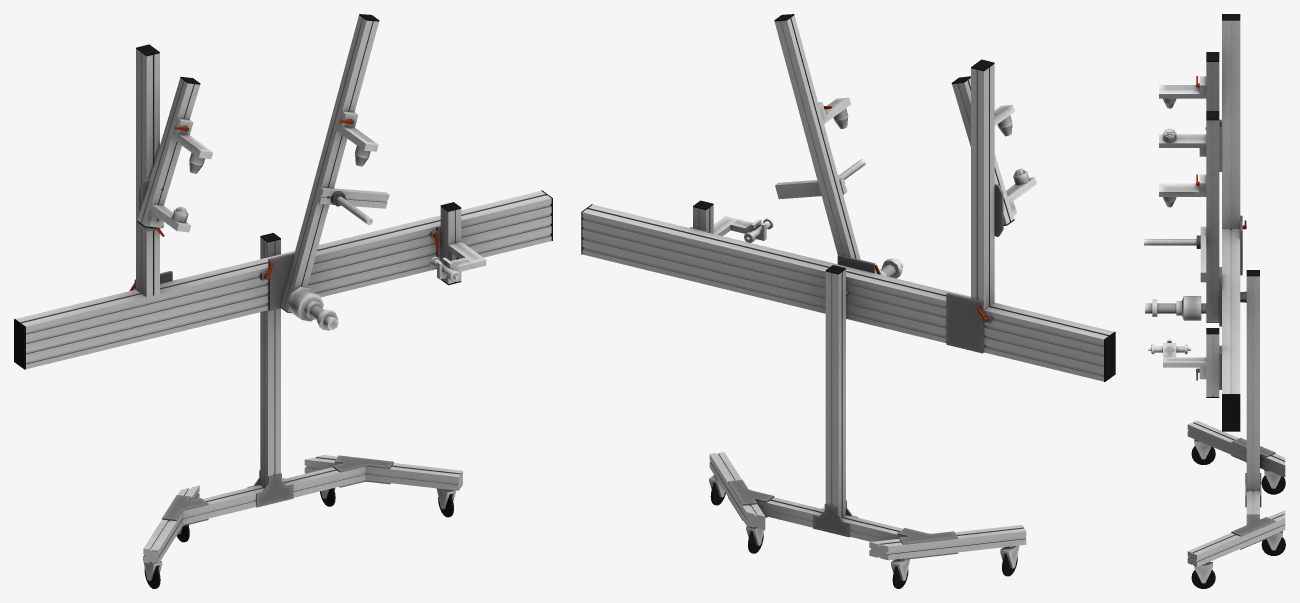
File: Caballo para soldadura cuadro.FBX
The picture shows the model from 3 angles, left to right: view 1: azimuth 30°, elevation 25°; view 2: azimuth 150°, elevation 25°; view 3: azimuth 270°, elevation 25°; orthographic projection. The views are drawn at different scales.
Parts seen in each view (by area): view 1: Pieza_006, Base_002, Pieza_004, Pieza_010, Pieza_007, Placa_Base_002, Pieza_009, Pieza_008, Eje 002, Sujetador_001, Sujetador_002; view 2: Pieza_006, Base_002, Pieza_010, Pieza_004, Placa_Base_001, Pieza_007, Pieza_009; view 3: Base_002, Pieza_010, Pieza_006, Pieza_004, Pieza_008, Sujetador_002, Sujetador_001, Tapon_010, Pieza_007, Sujetador_003, Eje 002, Sujetador_004 (+11 smaller).
Part boxes in pixels (x1,y1,x2,y2): Pieza_006: (15,191,551,369); Base_002: (143,233,462,563); Pieza_004: (280,15,378,311); Pieza_010: (136,49,159,296); Pieza_007: (137,78,199,227); Placa_Base_002: (260,252,294,310); Pieza_009: (316,187,389,208); Pieza_008: (440,207,461,283); Eje 002: (287,287,323,321); Sujetador_001: (337,111,378,151); Sujetador_002: (171,118,213,159); Pieza_006: (582,204,1113,381); Base_002: (709,265,1026,560); Pieza_010: (971,64,994,309); Pieza_004: (774,15,860,259); Placa_Base_001: (946,293,991,353); Pieza_007: (952,78,1014,224); Pieza_009: (775,178,847,199); Base_002: (1187,270,1285,566); Pieza_010: (1222,20,1240,228); Pieza_006: (1222,228,1240,393); Pieza_004: (1206,120,1219,322); Pieza_008: (1206,334,1219,396); Sujetador_002: (1159,76,1206,98); Sujetador_001: (1159,174,1206,196); Tapon_010: (1222,394,1240,431); Pieza_007: (1206,62,1219,110); Sujetador_003: (1159,134,1206,156); Eje 002: (1176,296,1201,320); Sujetador_004: (1163,357,1206,379).
Size of the model in its own units: 2.01 by 1.9 by 0.5398.
